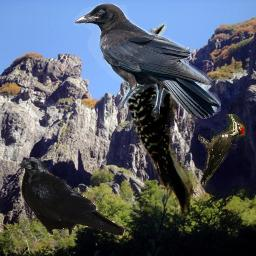Crow: (74, 3, 221, 119), (17, 157, 125, 236)
Woodpecker: (111, 18, 209, 232), (196, 114, 246, 187)
